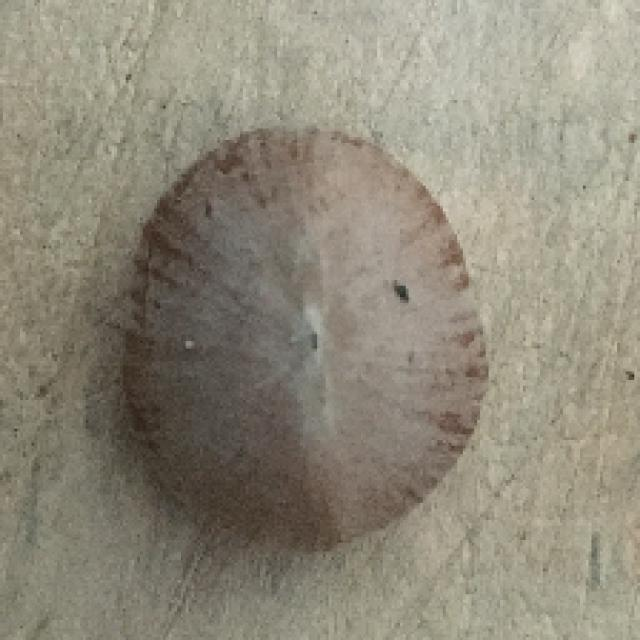QualityHazelnut: (120, 120, 490, 557)
